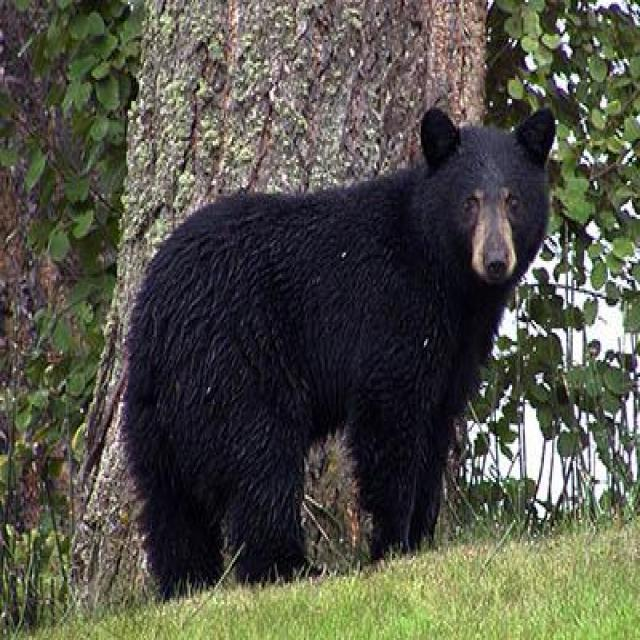Bear: (120, 109, 558, 600)
